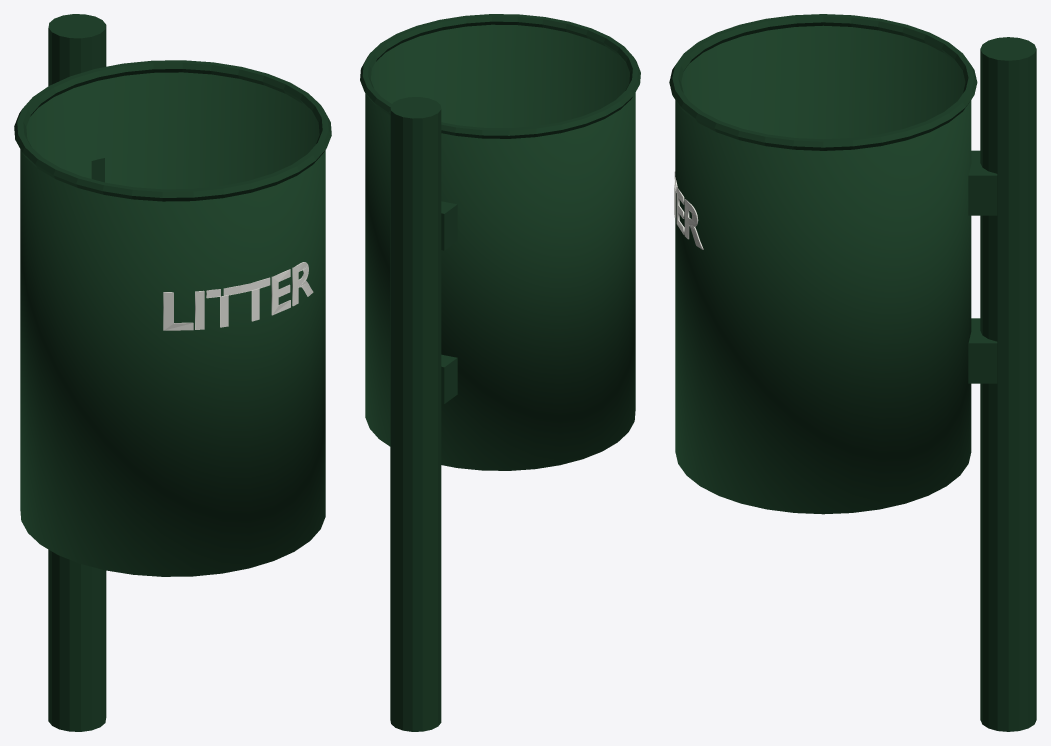
The model's file is litter-bin.glb.
3 views of the same model, side by side, from view 1: azimuth 30°, elevation 25°; view 2: azimuth 150°, elevation 25°; view 3: azimuth 270°, elevation 25° (orthographic). The views are drawn at different scales.
Visible parts, largest first — view 1: bin; view 2: bin; view 3: bin.
Part boxes in pixels (left/top/right/bottom): bin: left=14, top=14, right=331, bottom=731; bin: left=360, top=14, right=640, bottom=731; bin: left=669, top=14, right=1036, bottom=731.
Size of the model in its own units: 0.416 by 1 by 0.496.
